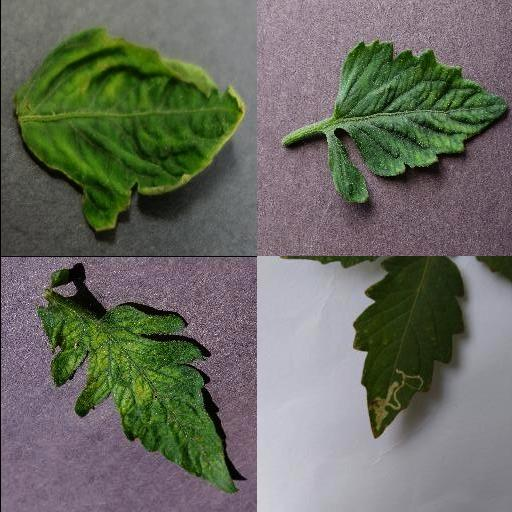Leaf Miner: (350, 257, 464, 441)
Mosaic Virus: (34, 291, 240, 495), (335, 41, 509, 177)
Yellow Leaf Curl Virus: (10, 28, 244, 230)
